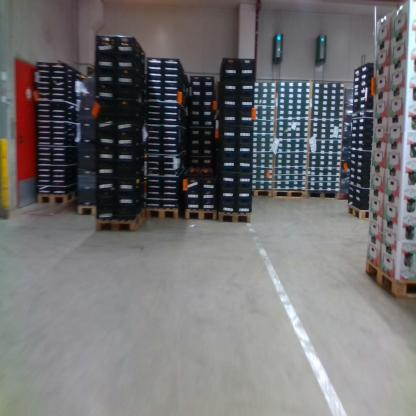pallet: (367, 252, 416, 296), (97, 208, 148, 234), (34, 189, 79, 206), (216, 207, 254, 226), (147, 204, 183, 221), (76, 199, 105, 219), (307, 187, 341, 204), (345, 202, 373, 221), (183, 206, 220, 220), (273, 186, 307, 199), (249, 186, 273, 202)
